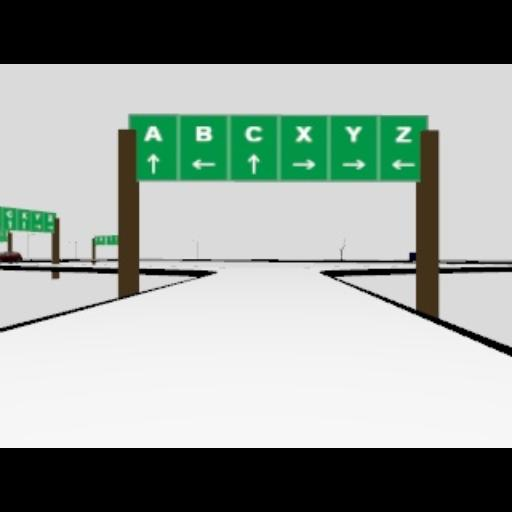A: (142, 125, 162, 141)
B: (195, 125, 211, 141)
C: (245, 125, 263, 143), (5, 210, 13, 218)
Left: (188, 158, 216, 170), (390, 158, 416, 170), (34, 222, 42, 230)
Right: (341, 158, 367, 170), (291, 158, 315, 170)
Straight: (246, 152, 260, 172), (146, 152, 158, 172), (6, 219, 12, 229), (20, 221, 26, 229)
X: (294, 125, 312, 141), (21, 211, 27, 219)
Y: (344, 125, 362, 143), (34, 211, 40, 219)
Z: (394, 125, 412, 143), (47, 213, 53, 223)
